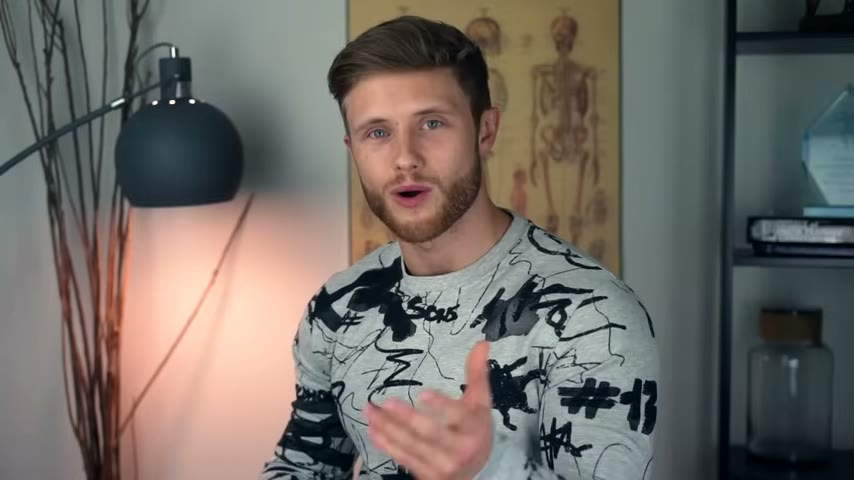barbell_plate_side: (539, 229, 663, 461)
